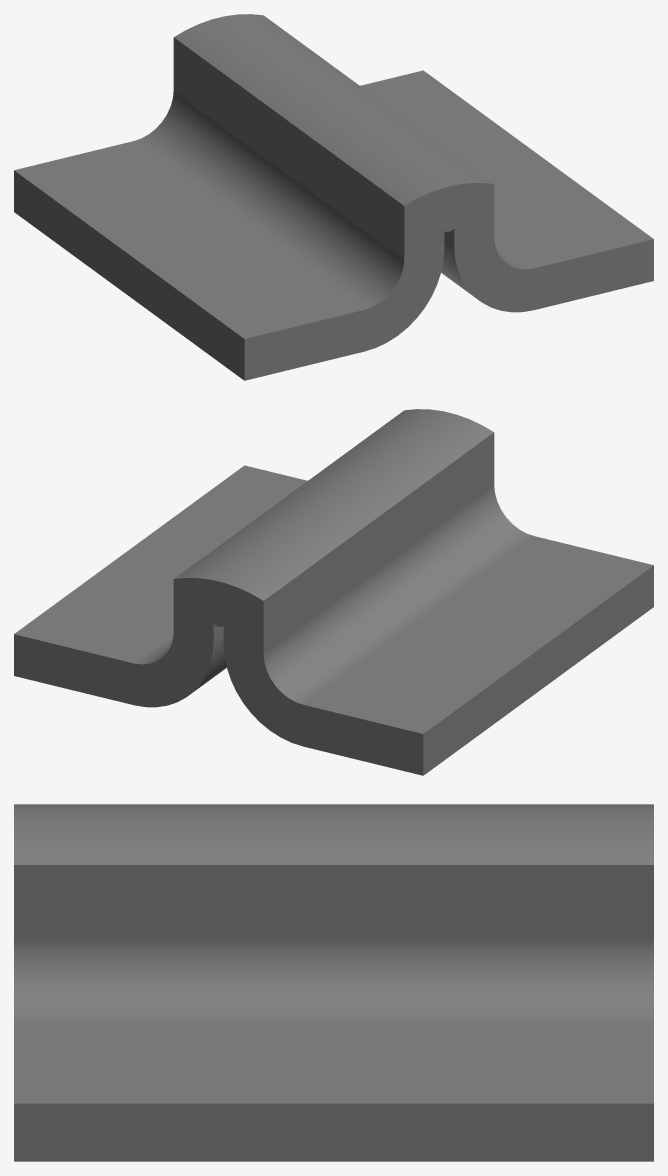
3 views of the same model, one above another, from view 1: azimuth 30°, elevation 25°; view 2: azimuth 150°, elevation 25°; view 3: azimuth 270°, elevation 25° (orthographic). The views are drawn at different scales.
Visible parts, largest first — view 1: mesh_id4, mesh_id5; view 2: mesh_id4, mesh_id5; view 3: mesh_id4, mesh_id5.
Part boxes in pixels (bbox=[...]): mesh_id4: bbox=[14, 37, 653, 380]; mesh_id5: bbox=[174, 14, 493, 231]; mesh_id4: bbox=[14, 432, 653, 775]; mesh_id5: bbox=[174, 409, 493, 626]; mesh_id4: bbox=[14, 865, 653, 1161]; mesh_id5: bbox=[14, 804, 653, 864].
Size of the model in its own units: 0.512 by 0.1725 by 0.4995.
Materials: 2 (2 with a texture image).
